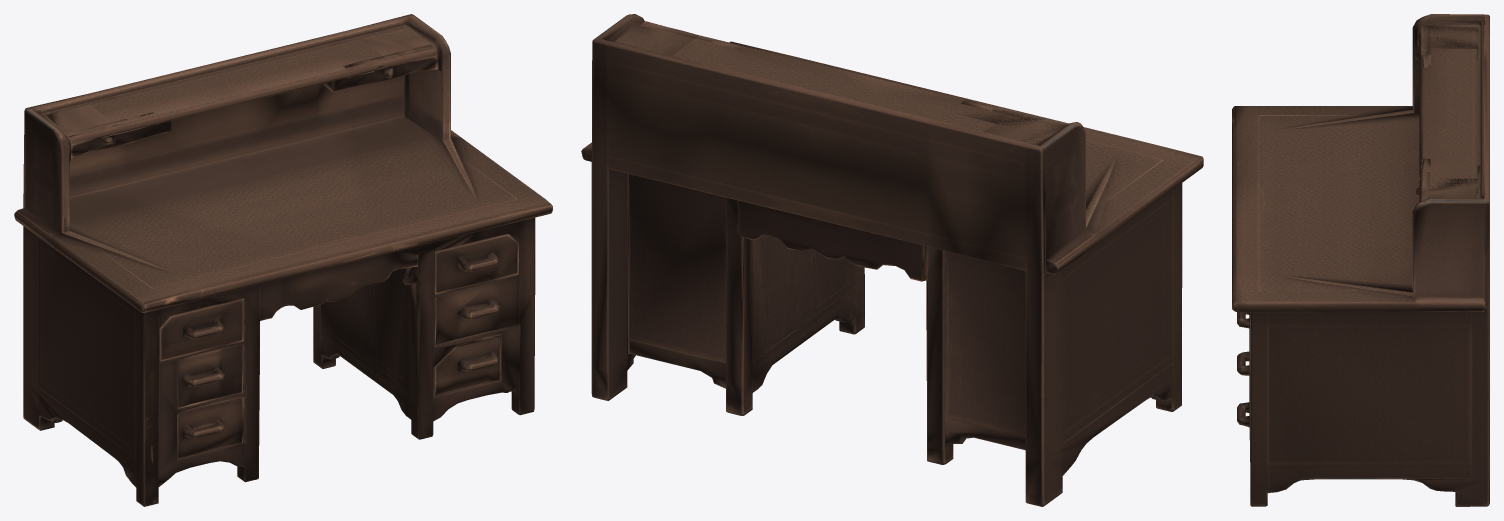
The model's file is OfficeDesk.fbx.
The picture shows the model from 3 angles, left to right: view 1: azimuth 30°, elevation 25°; view 2: azimuth 150°, elevation 25°; view 3: azimuth 270°, elevation 25°; orthographic projection. The views are drawn at different scales.
Parts seen in each view (by area): view 1: mesh_node; view 2: mesh_node; view 3: mesh_node.
Boxes of the visible parts, <box> form: mesh_node: <box>14,14,552,506</box>; mesh_node: <box>581,14,1203,506</box>; mesh_node: <box>1232,14,1489,506</box>.
Size of the model in its own units: 191 by 137 by 105.
1 material, 1 textured.
